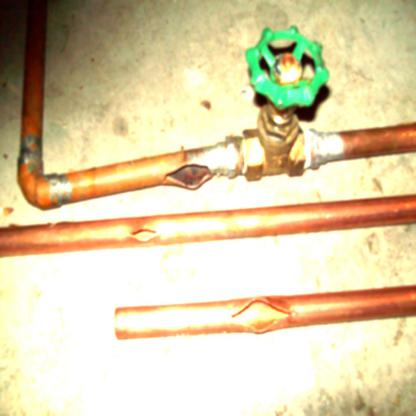burst: (231, 296, 299, 336), (166, 164, 222, 200), (127, 225, 163, 250)
